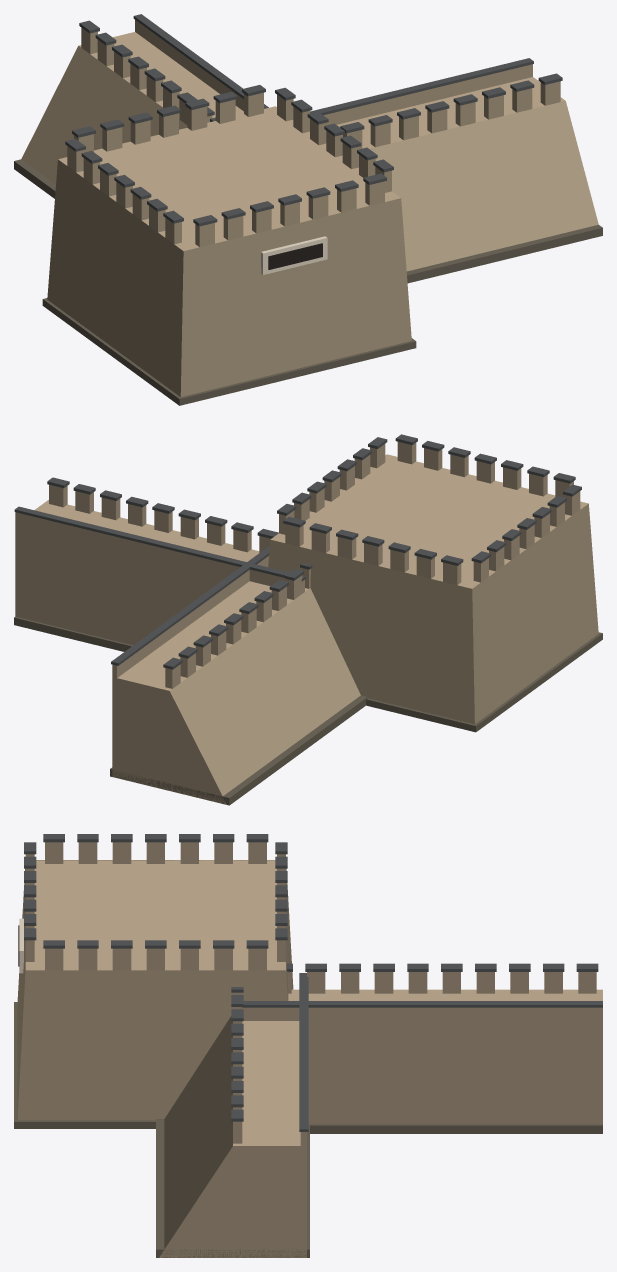
File: X03_far.glb
3 views of the same model, one above another, from view 1: azimuth 30°, elevation 25°; view 2: azimuth 150°, elevation 25°; view 3: azimuth 270°, elevation 25° (orthographic). The views are drawn at different scales.
Visible parts, largest first — view 1: X03_far; view 2: X03_far; view 3: X03_far.
Part boxes in pixels (<box>): X03_far: <box>14,14,602,405</box>; X03_far: <box>14,434,602,805</box>; X03_far: <box>14,834,602,1257</box>.
Bounding box in the file's own units: 38.2 × 12.82 × 38.2.
